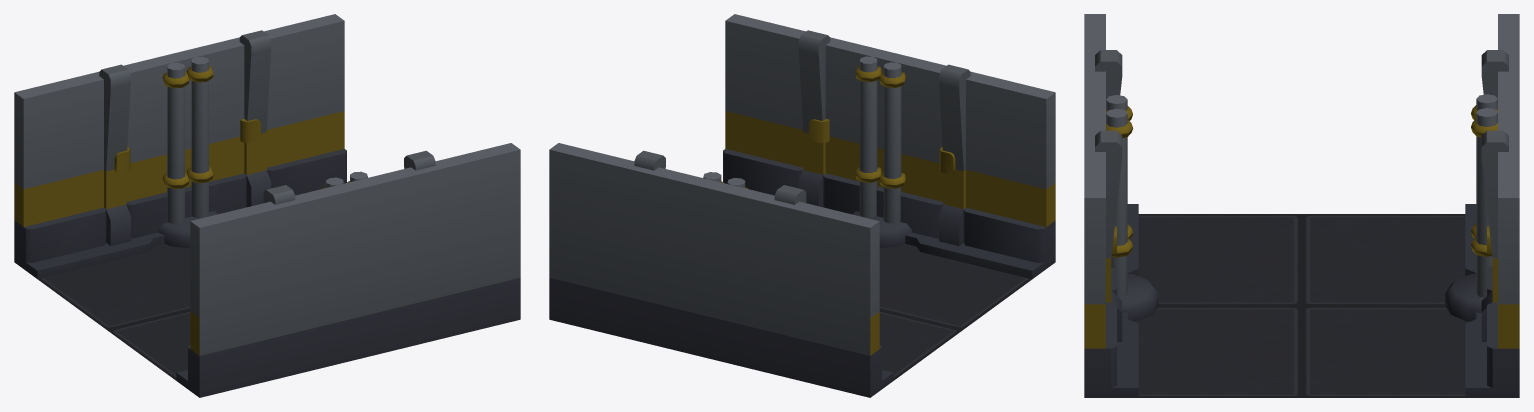
The model's file is k_corridor_wide.glb.
3 renders of one model, left to right at view 1: azimuth 30°, elevation 25°; view 2: azimuth 150°, elevation 25°; view 3: azimuth 270°, elevation 25°, orthographic. The views are drawn at different scales.
Parts seen in each view (by area): view 1: corridor-wide; view 2: corridor-wide; view 3: corridor-wide.
Part boxes in pixels (x1,y1,x2,y2): corridor-wide: (14,14,520,397); corridor-wide: (549,14,1055,397); corridor-wide: (1084,14,1519,397).
Size of the model in its own units: 8 by 4.25 by 8.
1 material, 1 textured.
